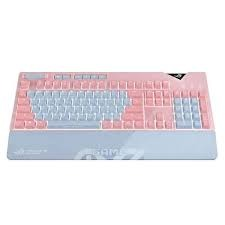keyboard: (5, 69, 216, 164)
